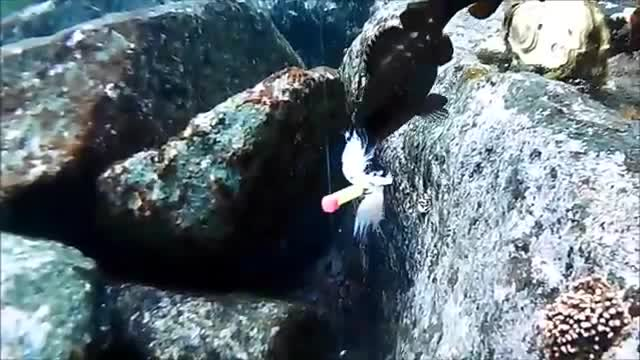mebaru: (346, 18, 468, 160)
